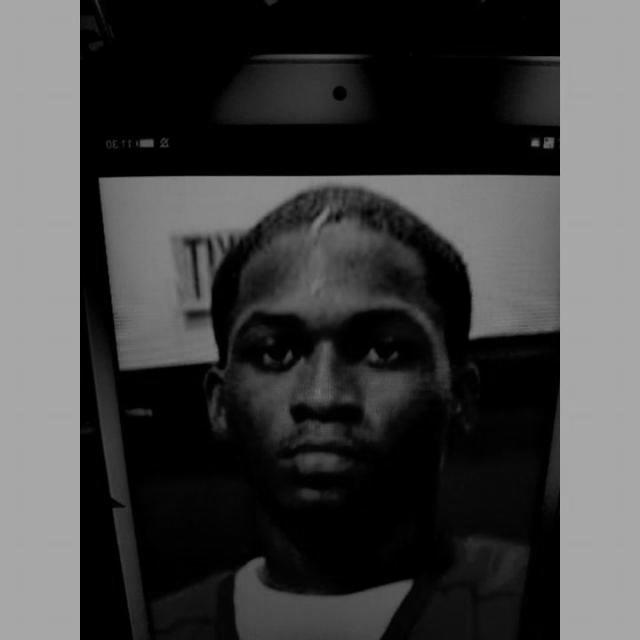fake: (81, 49, 559, 639)
